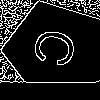C: (30, 25, 88, 74)
